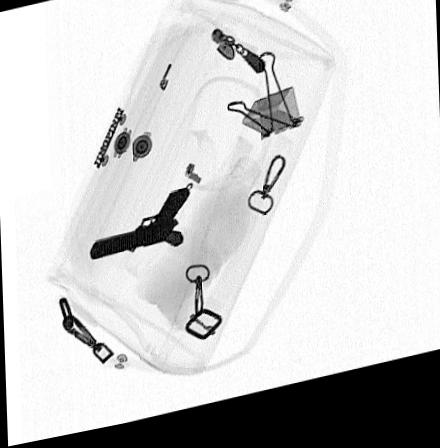Gun: (86, 197, 190, 265)
